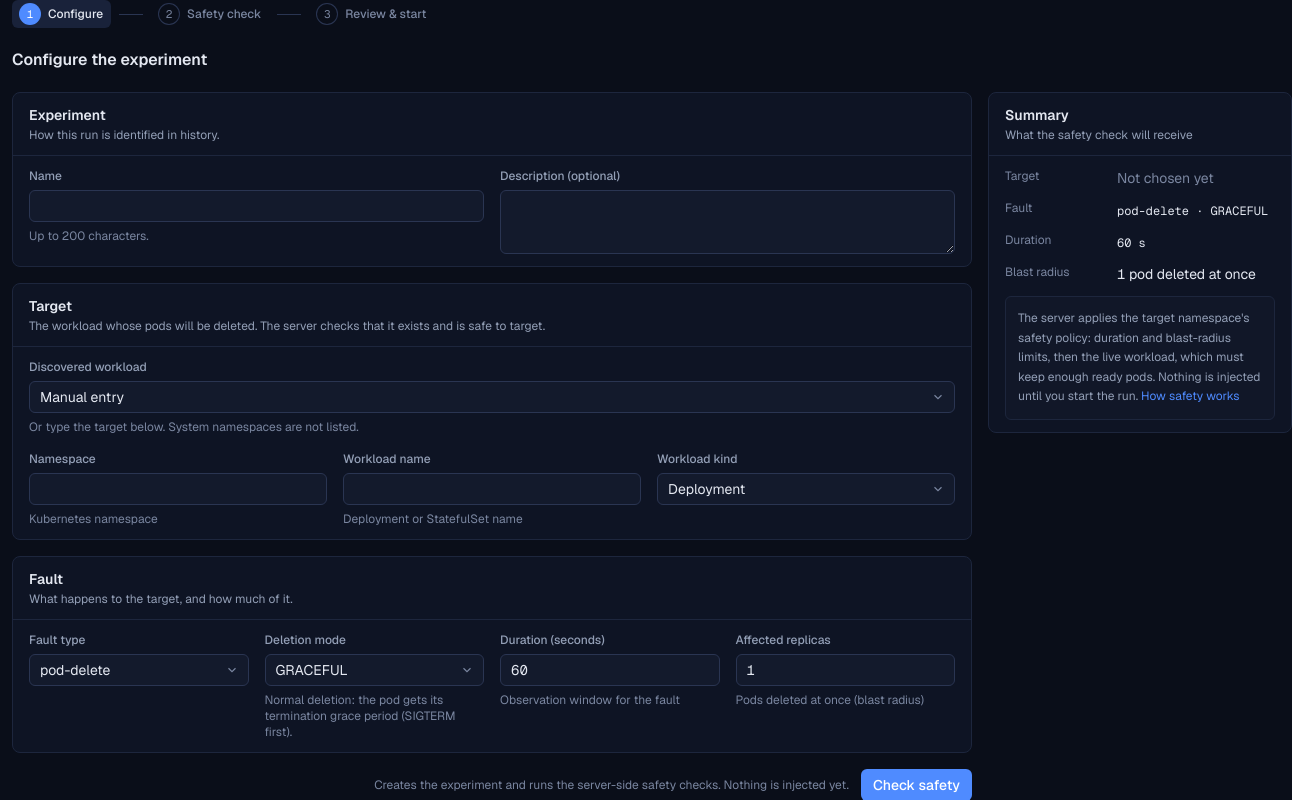
Test: Experiment builder › required fields are flagged locally and nothing is sent
The width and height of the screenshot is (1292, 800).
Click the button "Check safety": (916, 785) x1=861 y1=769 x2=972 y2=799
(page scrolled)
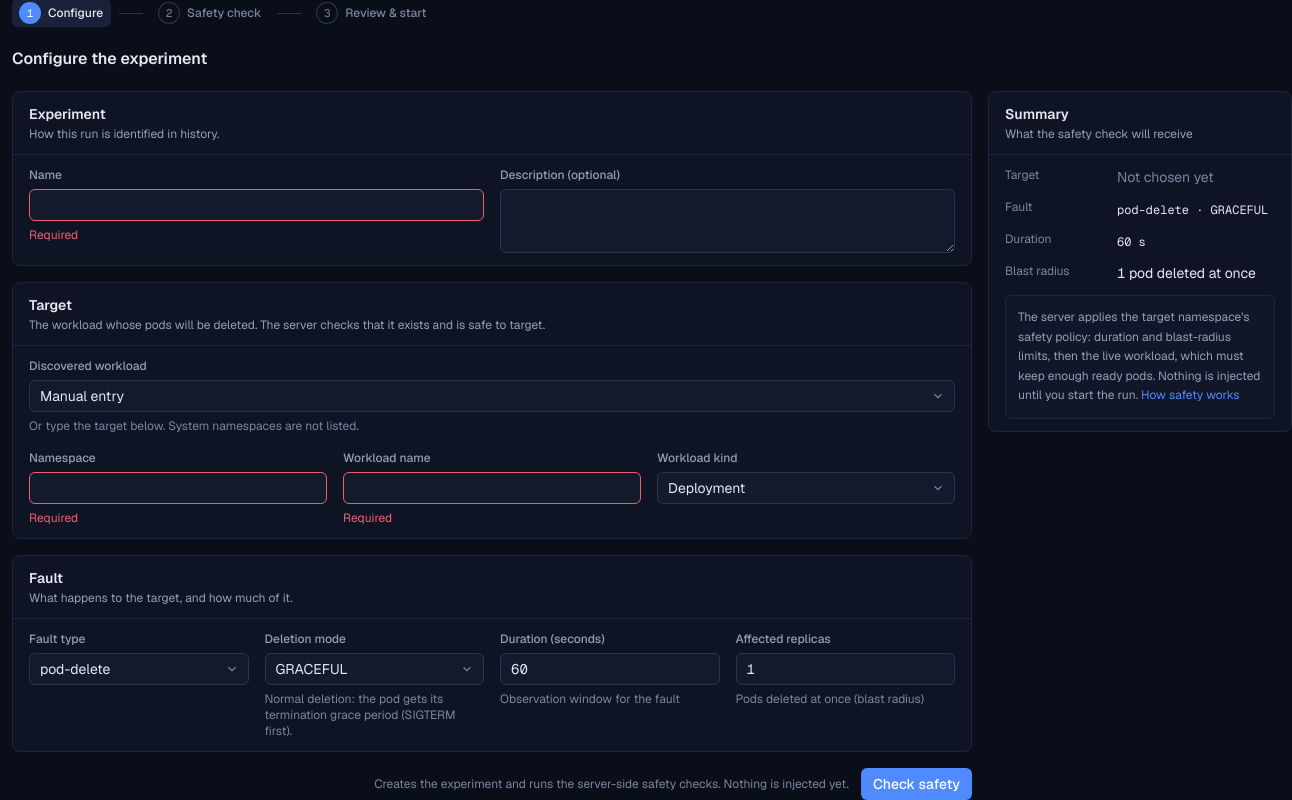
Result: the text "Required" is shown 3 times at x1=29 y1=227 x2=78 y2=243; x1=29 y1=510 x2=78 y2=526; x1=343 y1=510 x2=392 y2=526
